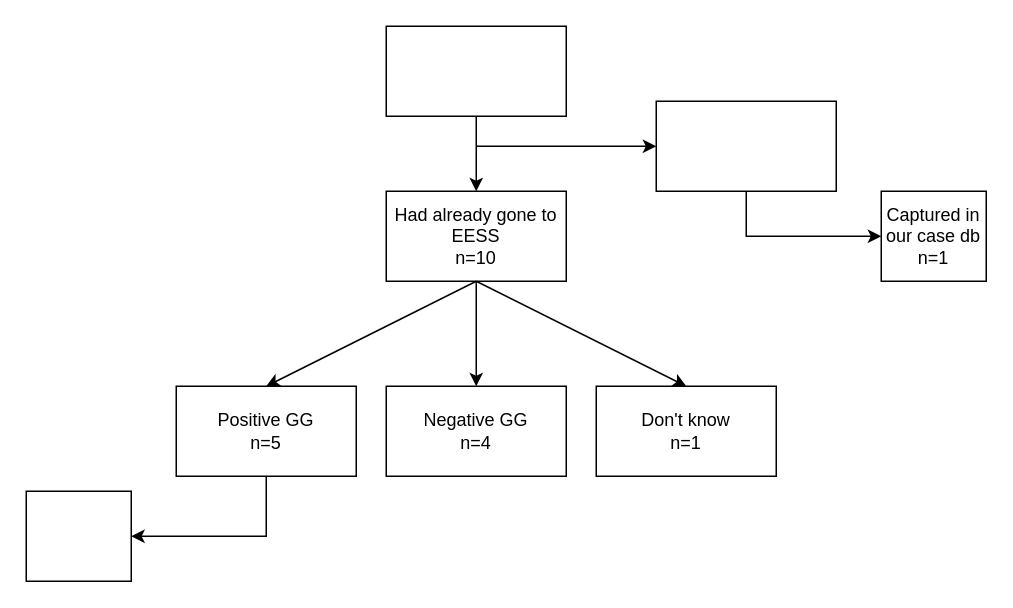
This 1013x608 diagram has some shape labels left out. The box of each missing label's shape, as (x1, y1, x2, y2) in pixels:
Captured in our case db n=2: (25, 490, 131, 581)
Fever at enrollment n=49: (385, 25, 566, 116)
Had not already gone to EESS n=39: (655, 100, 836, 191)
